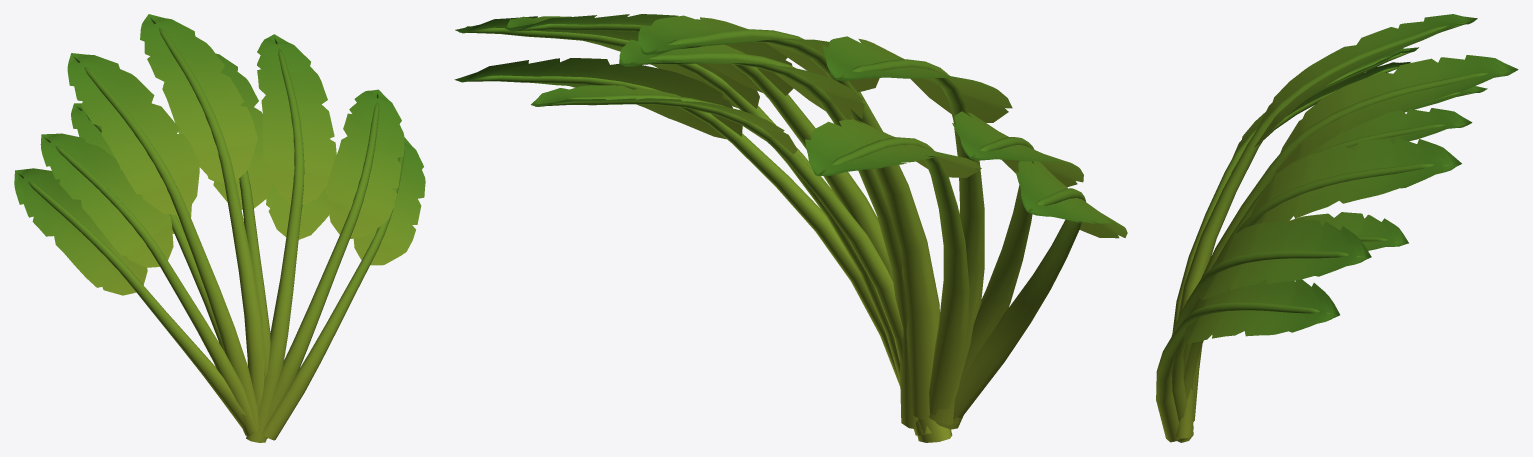
File: MDL_E_BananaTree_01.fbx
3 views of the same model, side by side, from view 1: azimuth 30°, elevation 25°; view 2: azimuth 150°, elevation 25°; view 3: azimuth 270°, elevation 25° (orthographic). The views are drawn at different scales.
Parts seen in each view (by area): view 1: Plane.027, Plane.025, Plane.031, Plane.030, Plane.028, Plane.029, Plane.032, Plane.035, Plane.033, Plane.034; view 2: Plane.025, Plane.033, Plane.032, Plane.027, Plane.029, Plane.035, Plane.034, Plane.031, Plane.028, Plane.030; view 3: Plane.025, Plane.031, Plane.030, Plane.032, Plane.027, Plane.035, Plane.034, Plane.028, Plane.029, Plane.033.
Part boxes in pixels (<box>): Plane.027: <box>67,53,258,429</box>; Plane.025: <box>140,14,265,412</box>; Plane.031: <box>246,34,336,442</box>; Plane.030: <box>265,89,404,439</box>; Plane.028: <box>40,133,257,435</box>; Plane.029: <box>14,168,246,428</box>; Plane.032: <box>262,137,425,440</box>; Plane.035: <box>208,53,273,379</box>; Plane.033: <box>71,103,224,350</box>; Plane.034: <box>266,184,328,333</box>; Plane.025: <box>638,15,939,419</box>; Plane.033: <box>805,119,981,415</box>; Plane.032: <box>454,58,900,386</box>; Plane.027: <box>822,36,1012,424</box>; Plane.029: <box>953,161,1127,419</box>; Plane.035: <box>619,39,918,429</box>; Plane.034: <box>531,85,903,362</box>; Plane.031: <box>505,14,952,442</box>; Plane.028: <box>936,111,1083,429</box>; Plane.030: <box>455,16,931,435</box>; Plane.025: <box>1193,55,1518,421</box>; Plane.031: <box>1177,138,1461,442</box>; Plane.030: <box>1171,219,1371,441</box>; Plane.032: <box>1156,279,1339,442</box>; Plane.027: <box>1178,14,1477,318</box>; Plane.035: <box>1176,108,1472,438</box>; Plane.034: <box>1183,212,1408,399</box>; Plane.028: <box>1172,47,1418,331</box>; Plane.029: <box>1264,62,1410,139</box>; Plane.033: <box>1199,86,1487,367</box>.
Bounding box in the file's own units: 447 × 364 × 308.
